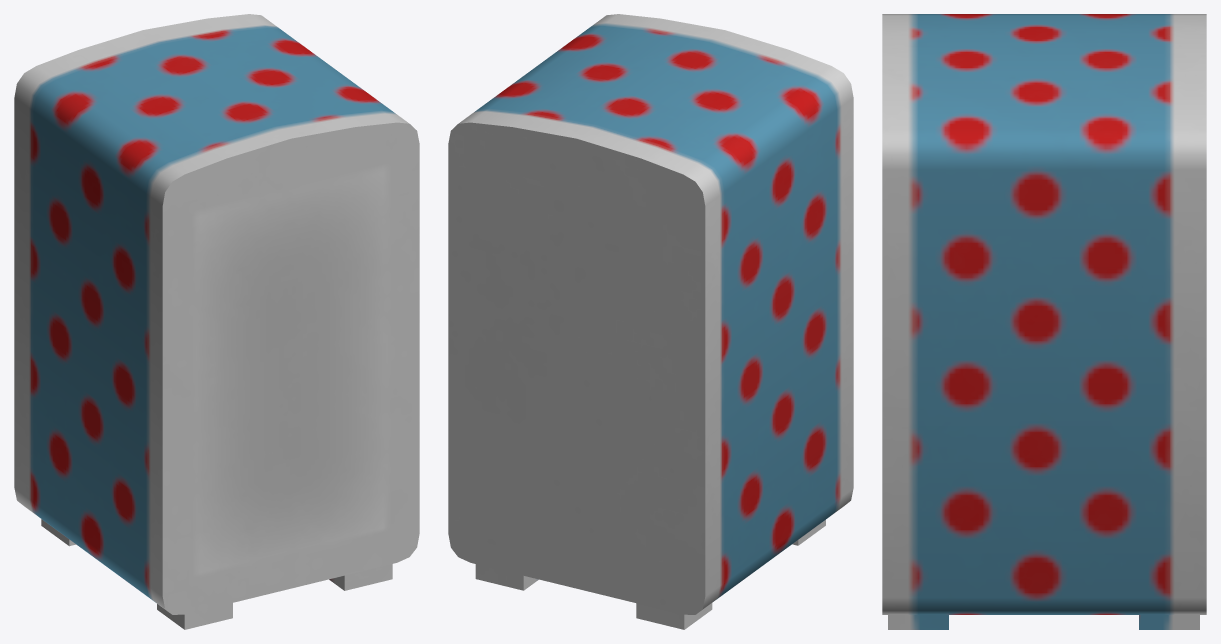
File: NapkinHolder.fbx
The picture shows the model from 3 angles, left to right: view 1: azimuth 30°, elevation 25°; view 2: azimuth 150°, elevation 25°; view 3: azimuth 270°, elevation 25°; orthographic projection. The views are drawn at different scales.
Parts seen in each view (by area): view 1: Napkin holder; view 2: Napkin holder; view 3: Napkin holder.
Part boxes in pixels (left/top/right/bottom): Napkin holder: left=14, top=14, right=419, bottom=629; Napkin holder: left=448, top=14, right=853, bottom=629; Napkin holder: left=882, top=14, right=1206, bottom=629.
Bounding box in the file's own units: 8 × 13.93 × 8.
